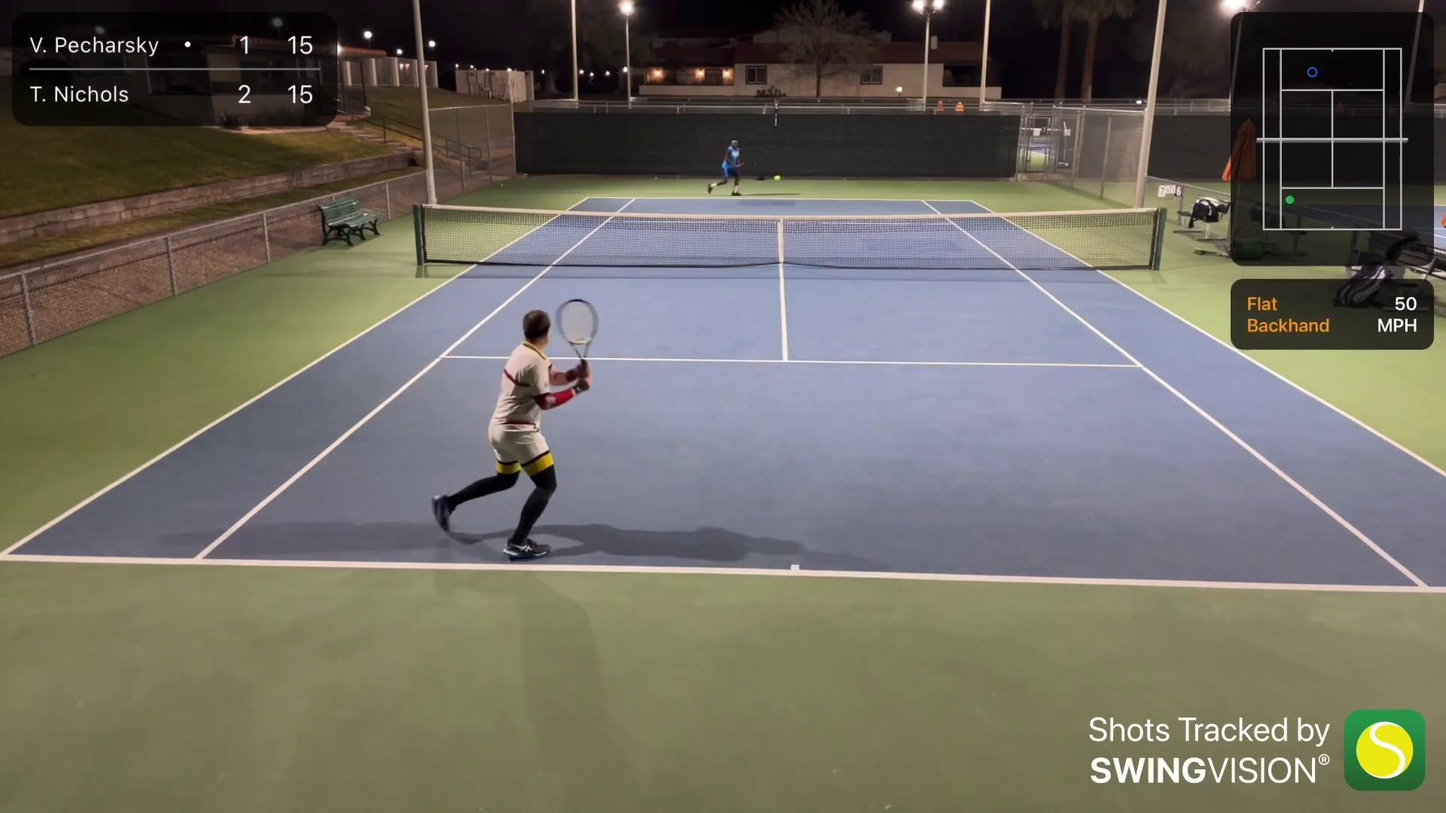ball: (777, 174, 782, 181)
